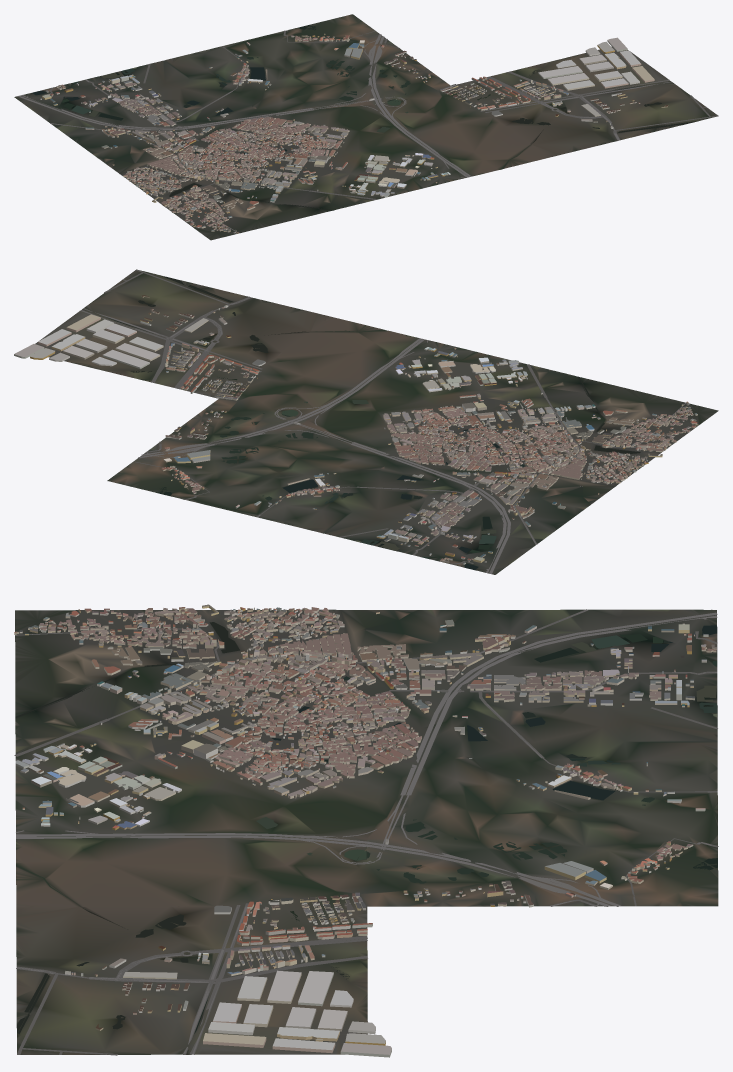
The picture shows the model from 3 angles, top to bottom: view 1: azimuth 30°, elevation 25°; view 2: azimuth 150°, elevation 25°; view 3: azimuth 270°, elevation 25°; orthographic projection. The views are drawn at different scales.
Parts seen in each view (by area): view 1: ground, buildings, roads, water; view 2: ground, buildings, roads, water; view 3: ground, buildings, roads, water.
Part boxes in pixels (box(x1,y1,x2,y2)): ground: box(14, 14, 717, 240); buildings: box(40, 33, 668, 233); roads: box(17, 30, 718, 232); water: box(32, 25, 694, 210); ground: box(35, 270, 718, 574); buildings: box(14, 295, 698, 564); roads: box(80, 269, 685, 573); water: box(109, 276, 640, 569); ground: box(15, 609, 718, 1054); buildings: box(14, 604, 716, 1057); roads: box(14, 609, 718, 1055); water: box(15, 622, 717, 1050).
Size of the model in its own units: 4260 by 35.37 by 2815.
